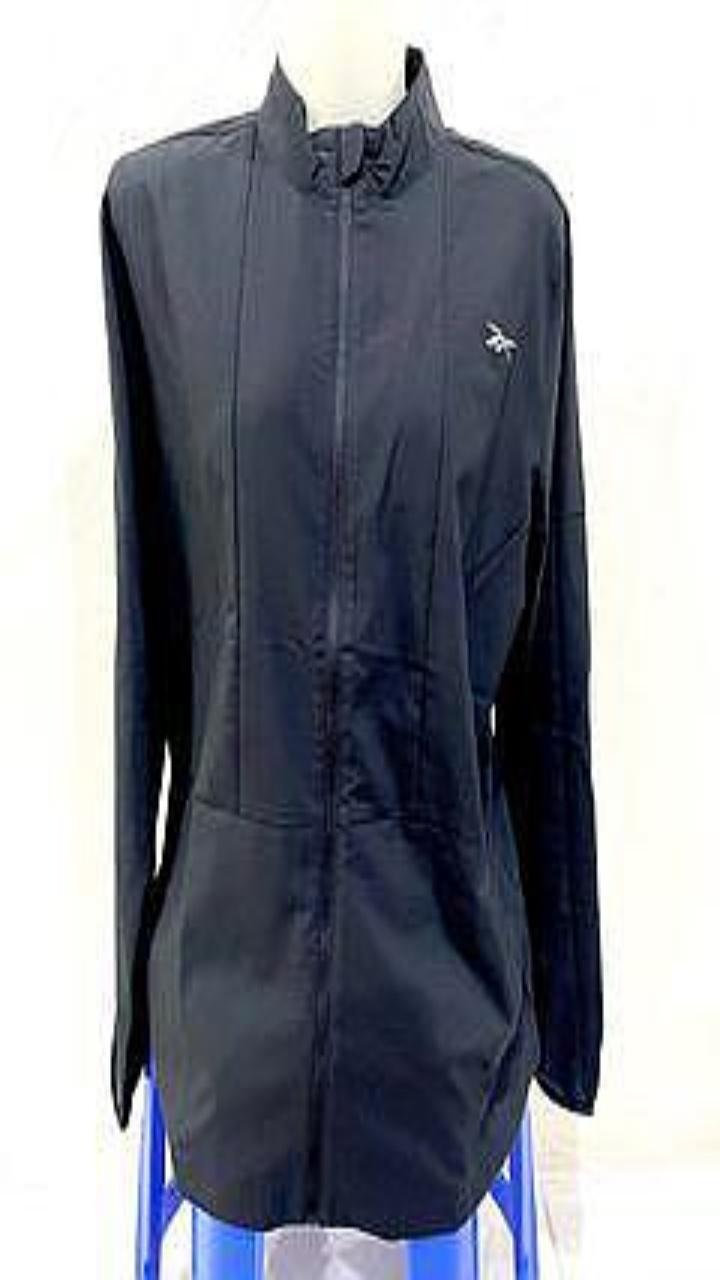Sports_Jacket: (100, 44, 602, 1237)
